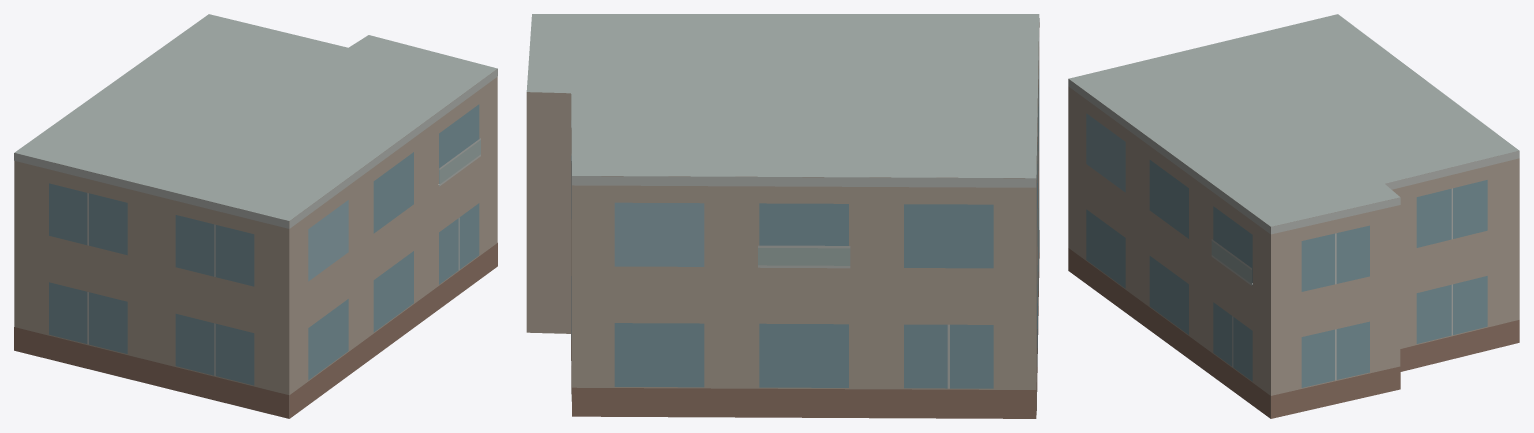
Rendered from survey-upis-32695347.glb.
3 renders of one model, left to right at view 1: azimuth 30°, elevation 25°; view 2: azimuth 150°, elevation 25°; view 3: azimuth 270°, elevation 25°, orthographic. The views are drawn at different scales.
Parts seen in each view (by area): view 1: survey-upis-32695347.tmp; view 2: survey-upis-32695347.tmp; view 3: survey-upis-32695347.tmp.
Boxes of the visible parts, left/top/right/bottom form: survey-upis-32695347.tmp: left=14, top=14, right=497, bottom=418; survey-upis-32695347.tmp: left=526, top=14, right=1039, bottom=418; survey-upis-32695347.tmp: left=1068, top=14, right=1519, bottom=418.
Bounding box in the file's own units: 14.5 × 6.1 × 12.99.
